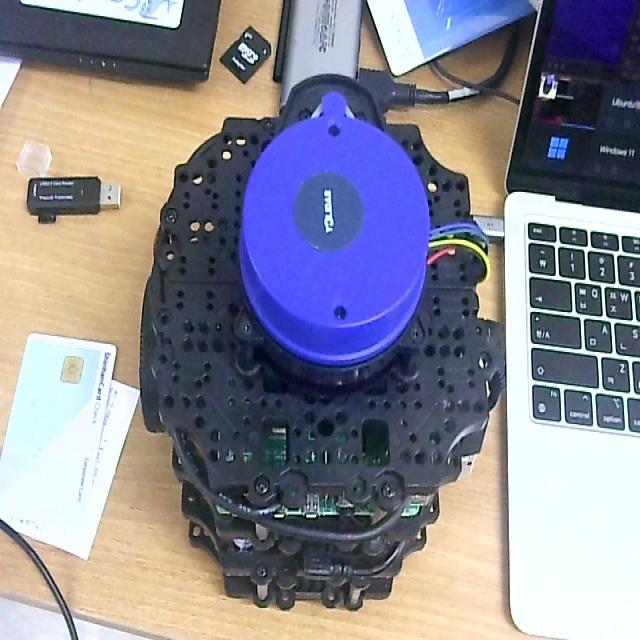turtle: (140, 73, 504, 615)
